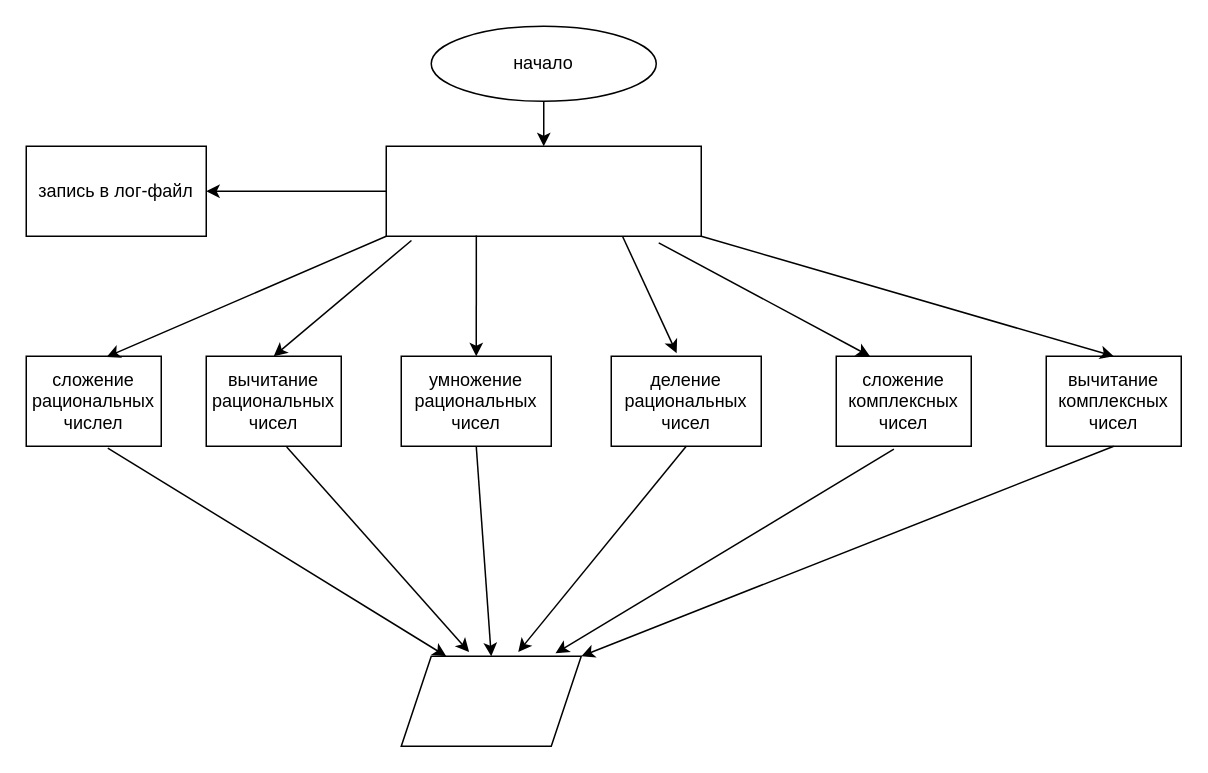
This 1208x773 diagram has some shape labels left out. The shapes that lost their labels are listed below. From the top down, each one's box as (x1, y1, x2, y2) in pixels, then its label:
(385, 145, 701, 236): выбор режима
(400, 655, 581, 746): вывод
